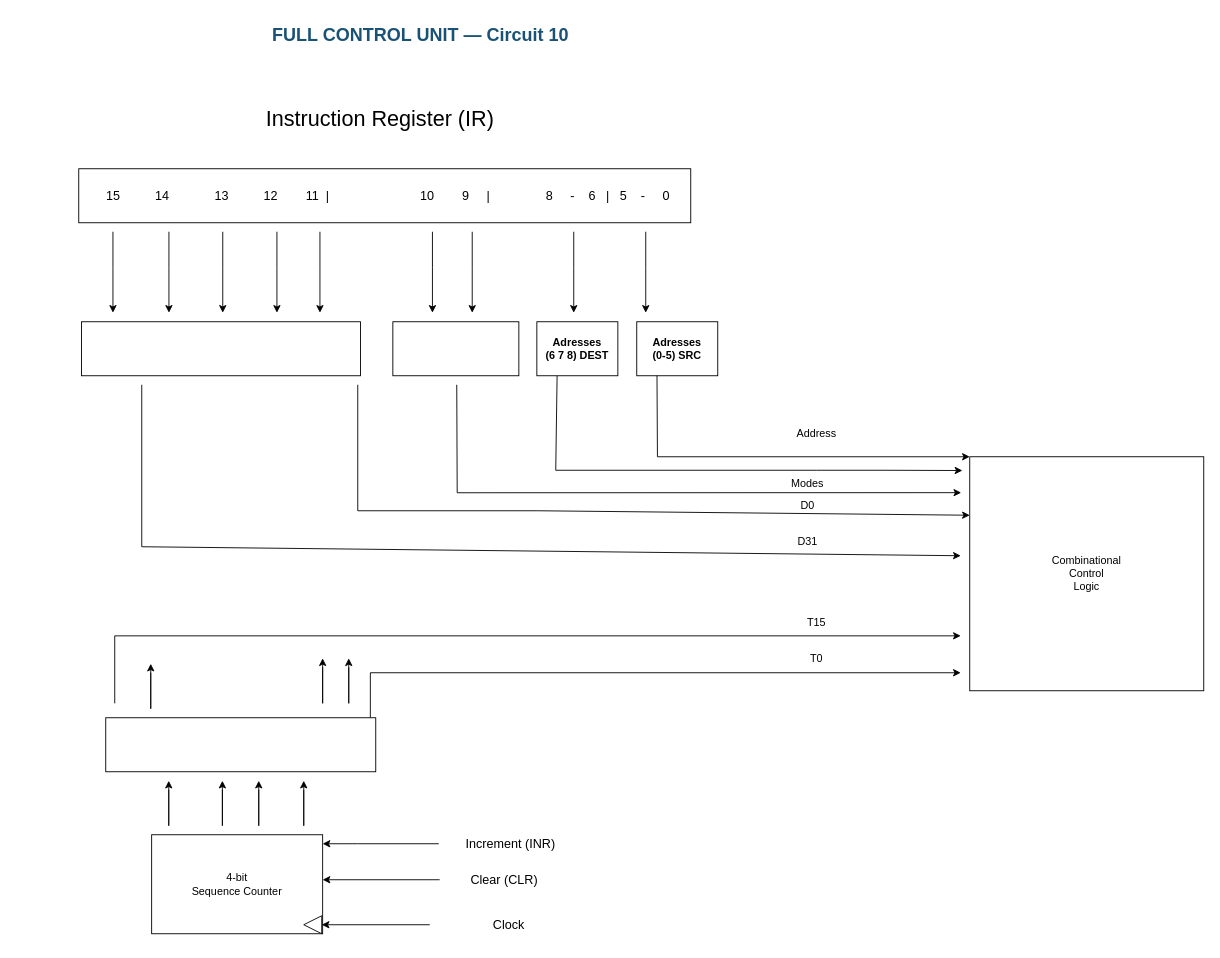
The diagram is 1220 pixels wide and 958 high, and some of its shapes have lost their labels. The centre of each missing label's shape, as x and y in pixels:
15 14 - - - - - - - 2 1 0 4 x 16 Decoder: point 240,744
5-to-32 DECODER (IR[15:11] → D0–D31) 31 30 2 1 0: point 220,348
Mode Selector: point 455,348
